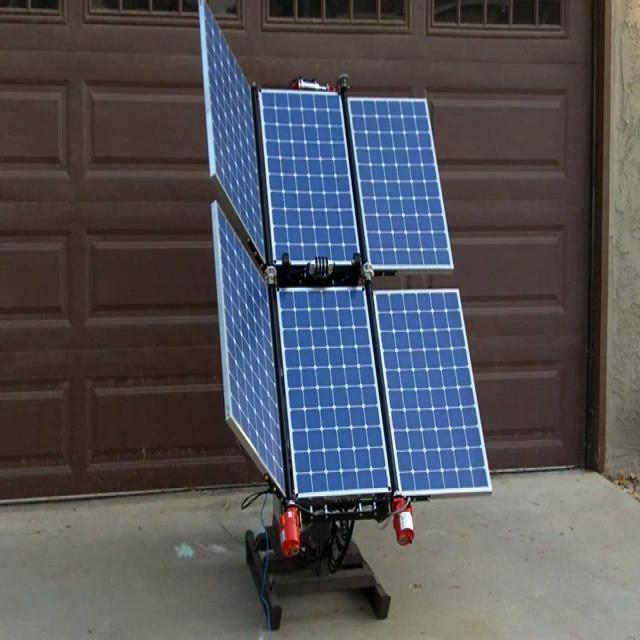Normal Solar Panel: (377, 291, 491, 497), (278, 290, 391, 495), (212, 201, 285, 495), (351, 97, 454, 271), (261, 91, 360, 264), (200, 0, 265, 261)
